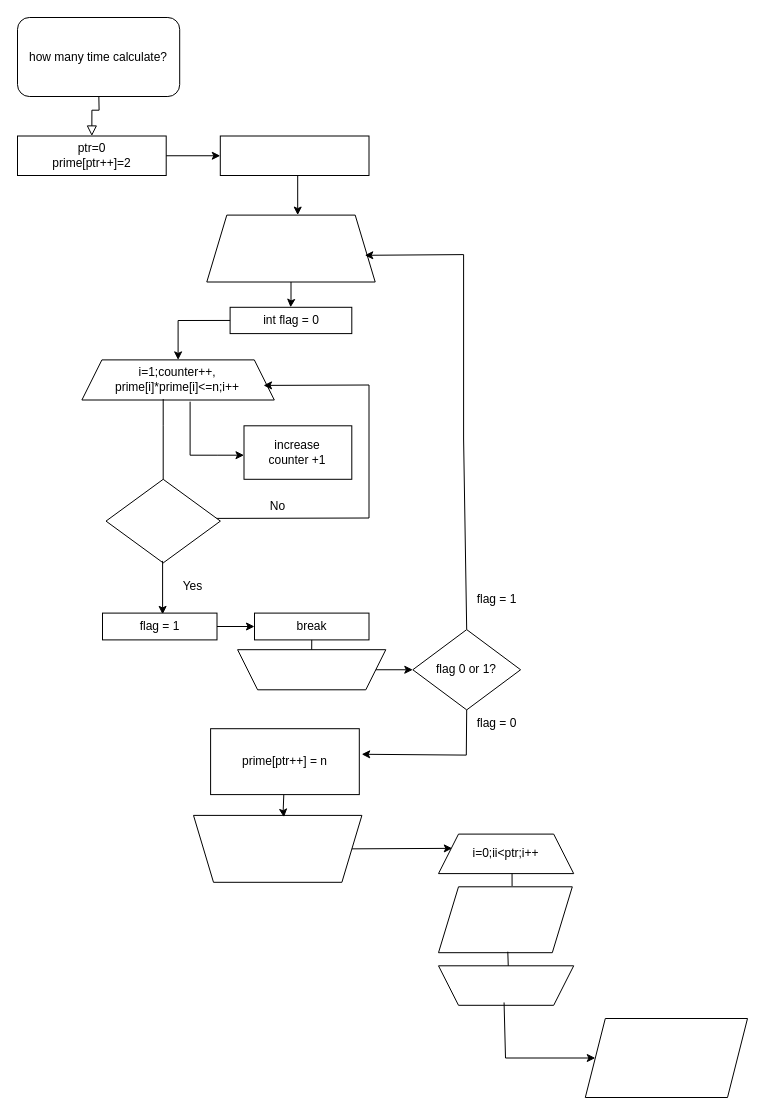
Image size: 765x1115. Some labels were removed from this diagram. Here are the shapes that lost their labels. From the top down, the centre of each, then its label:
(x=294, y=155): ptr=1 prime[ptr++]=3
(x=290, y=248): n=5 to 1000 ; n+=2
(x=162, y=520): n % prime[i] == 0
(x=505, y=919): print[ptr++] = n
(x=666, y=1058): print "counter"
